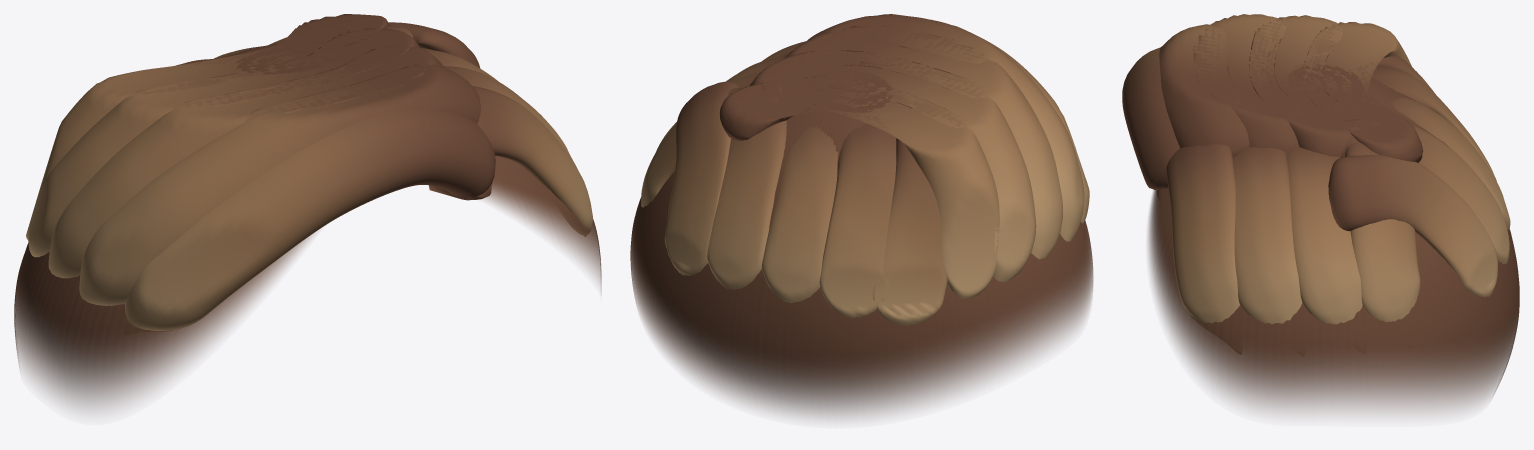
Rendered from Ombre-c2a5ef5d558c253-hair.glb.
The picture shows the model from 3 angles, left to right: view 1: azimuth 30°, elevation 25°; view 2: azimuth 150°, elevation 25°; view 3: azimuth 270°, elevation 25°; orthographic projection. The views are drawn at different scales.
Parts seen in each view (by area): view 1: 226 hair / Hair252 / sculpted locks.001, 226 hair / Hair252 / gentle tonal variation.001, 226 hair / Hair252 / restored153 fade coverage.001; view 2: 226 hair / Hair252 / sculpted locks.001, 226 hair / Hair252 / restored153 fade coverage.001, 226 hair / Hair252 / gentle tonal variation.001; view 3: 226 hair / Hair252 / sculpted locks.001, 226 hair / Hair252 / restored153 fade coverage.001, 226 hair / Hair252 / gentle tonal variation.001.
Boxes of the visible parts, <box> form: 226 hair / Hair252 / sculpted locks.001: <box>26,14,572,305</box>; 226 hair / Hair252 / gentle tonal variation.001: <box>125,59,592,330</box>; 226 hair / Hair252 / restored153 fade coverage.001: <box>14,41,601,410</box>; 226 hair / Hair252 / sculpted locks.001: <box>641,14,1084,325</box>; 226 hair / Hair252 / restored153 fade coverage.001: <box>630,70,1093,418</box>; 226 hair / Hair252 / gentle tonal variation.001: <box>762,19,1089,318</box>; 226 hair / Hair252 / sculpted locks.001: <box>1159,14,1510,324</box>; 226 hair / Hair252 / restored153 fade coverage.001: <box>1148,64,1519,413</box>; 226 hair / Hair252 / gentle tonal variation.001: <box>1122,47,1496,323</box>.
Size of the model in its own units: 0.976 by 0.6782 by 0.7562.
Materials: 3 (3 with a texture image).
